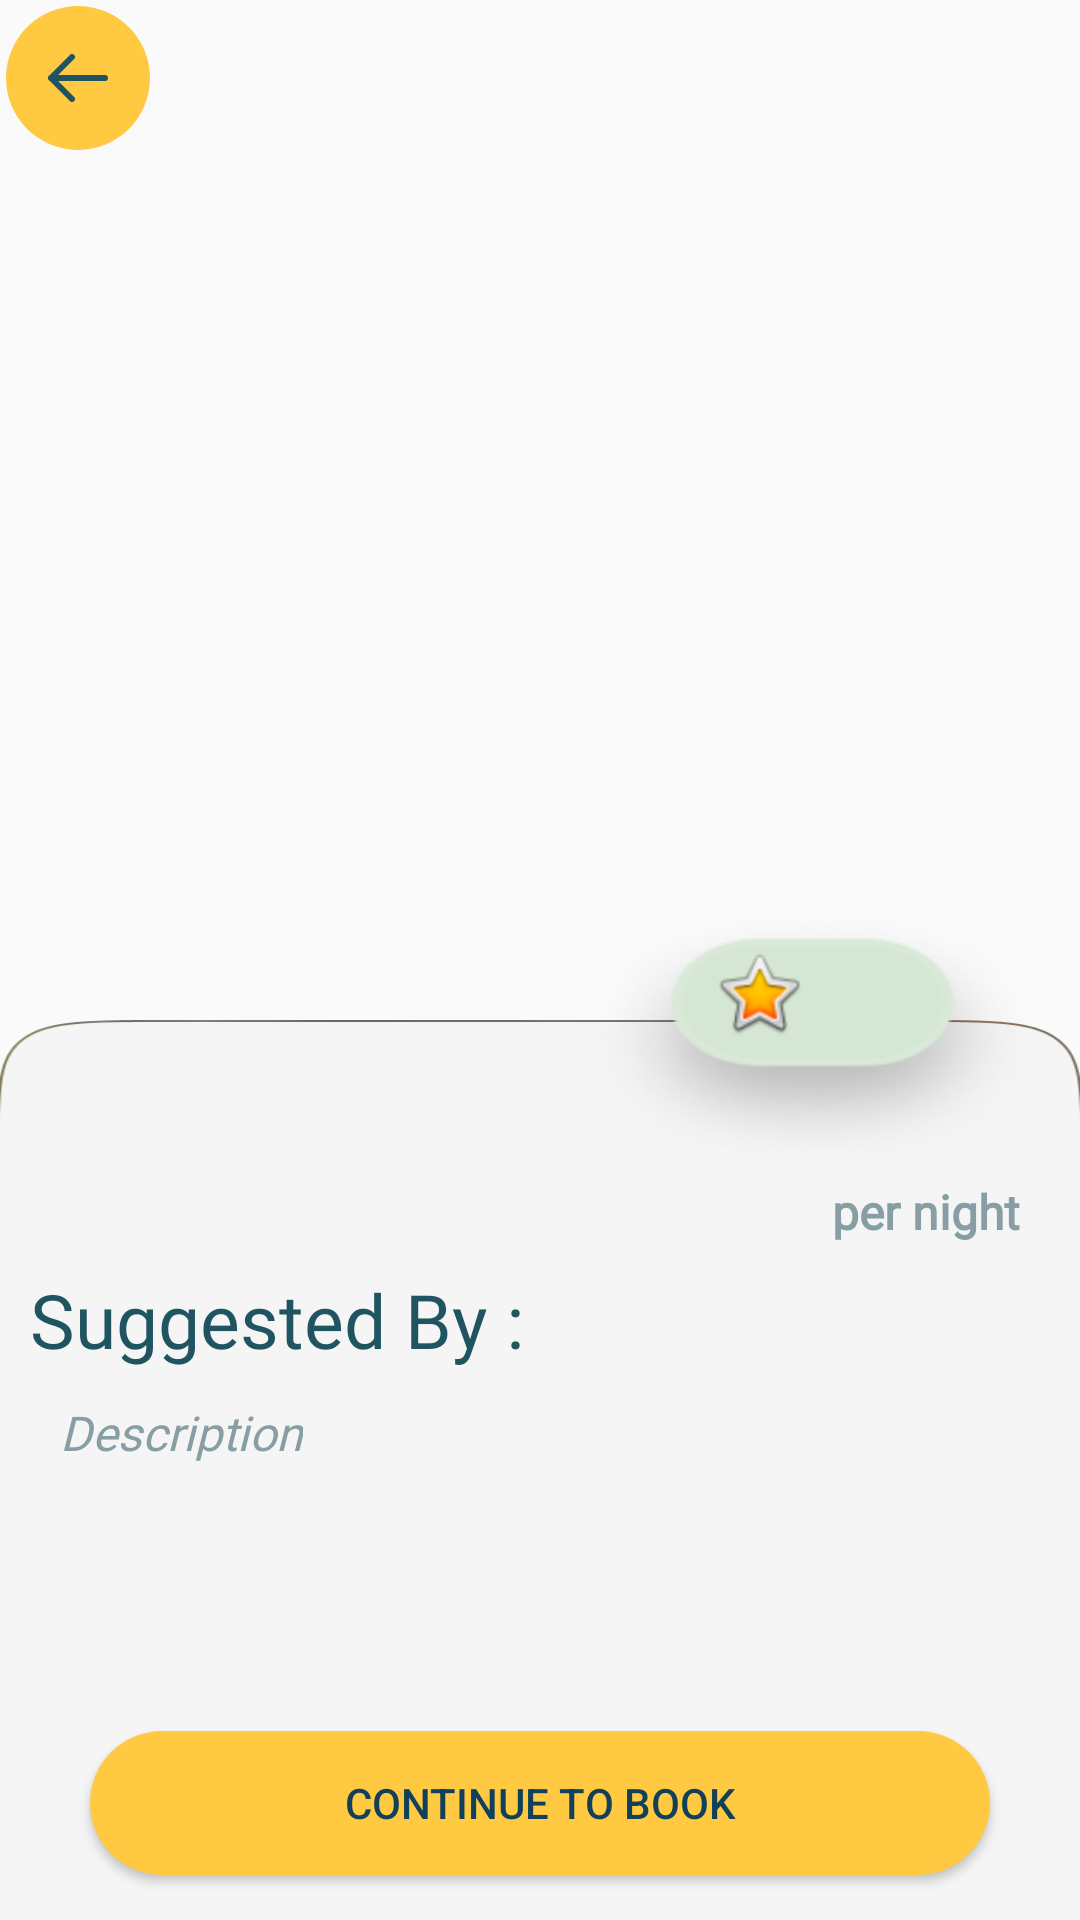

Icons on this 1080 x 1920 Android screen, each with its box as (x1, y1, x2, y2):
Go Back: (6, 6, 150, 150)
star on: (720, 955, 800, 1033)
